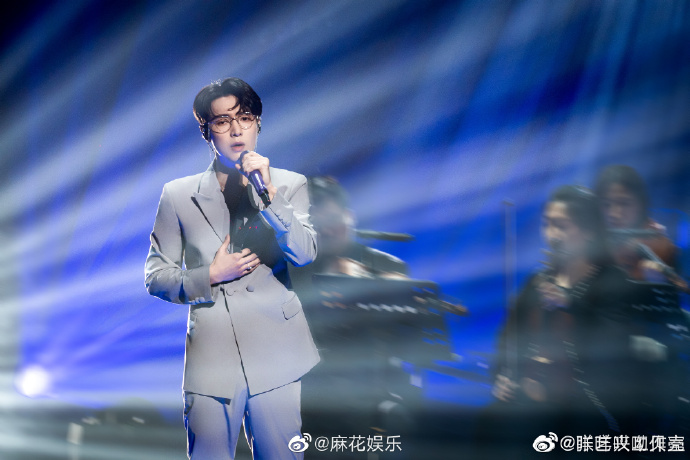noWear: (201, 103, 262, 162), (540, 205, 591, 261), (599, 184, 641, 229)
